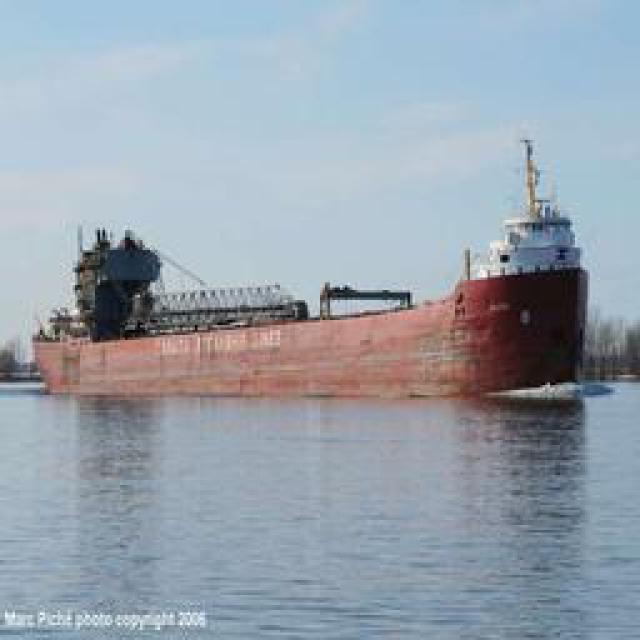Ship: (41, 142, 601, 410)
